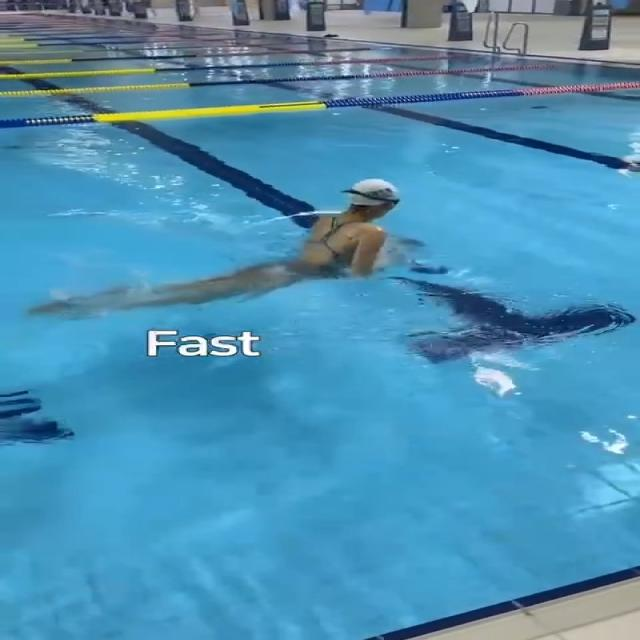Swimming: (0, 177, 437, 320)
